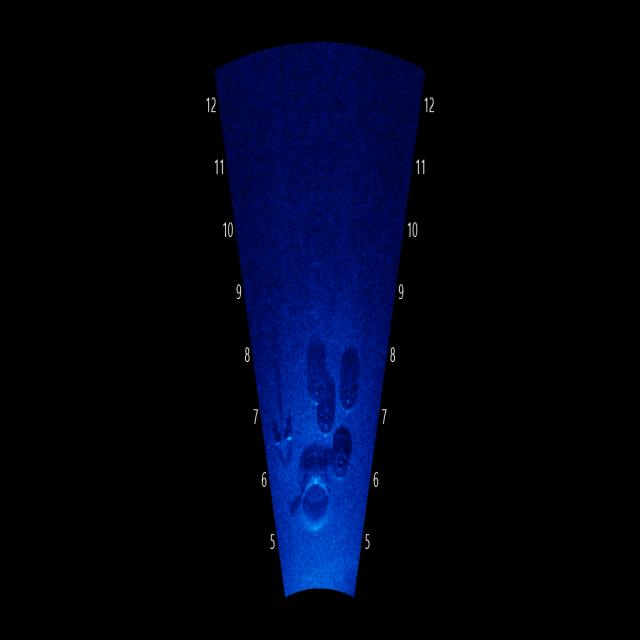circle: (293, 447, 337, 539), (311, 376, 345, 444), (329, 426, 357, 488), (336, 360, 366, 416), (306, 351, 330, 408)
